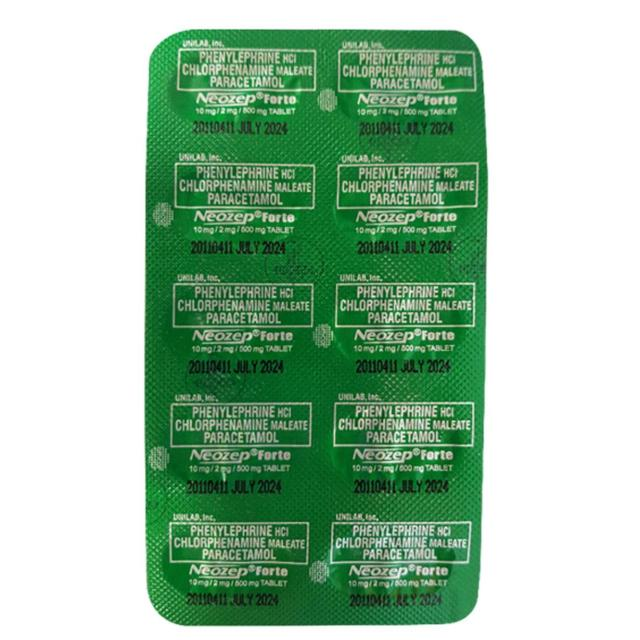blister: (139, 24, 490, 628)
